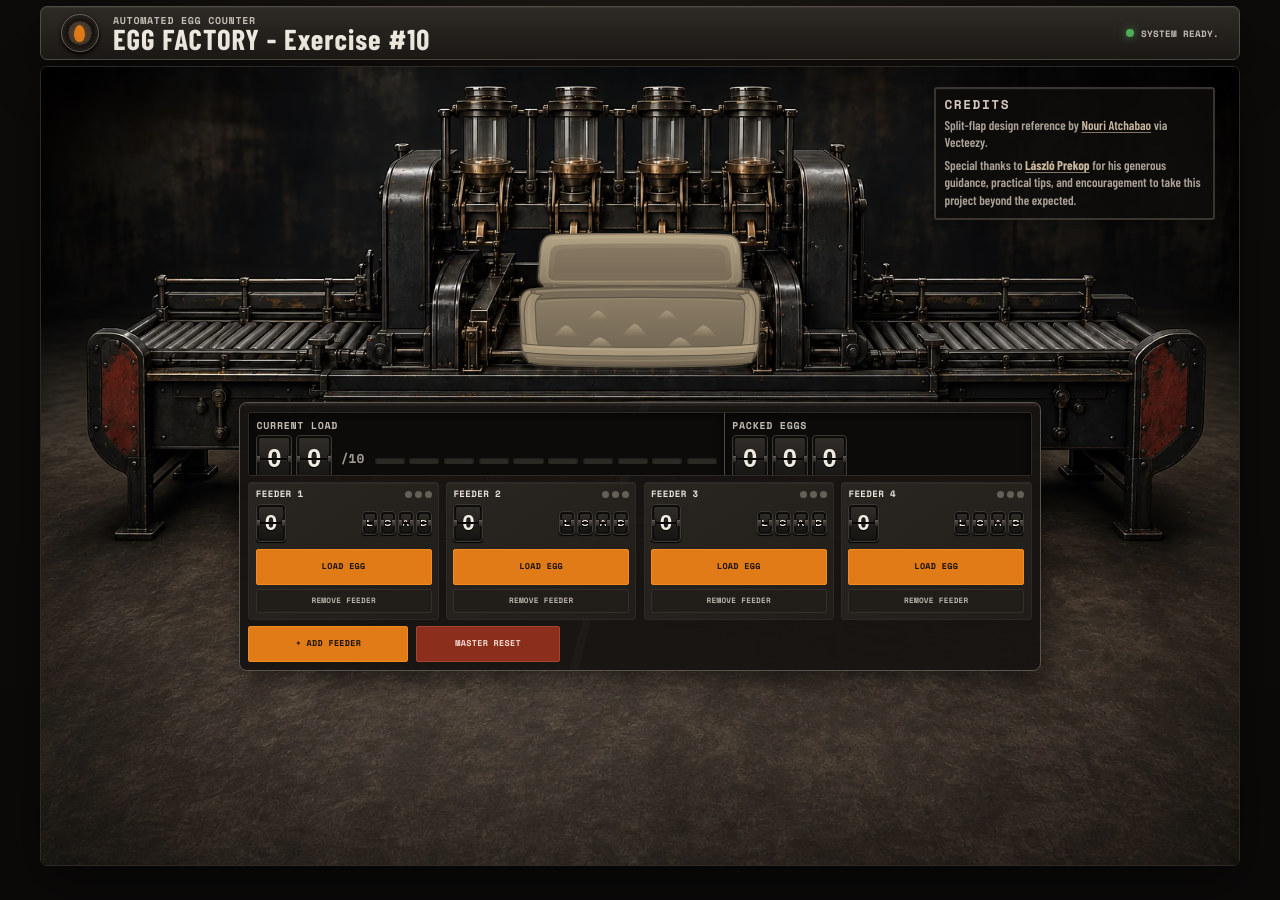
Scenario: Egg Factory › keeps the shell, total, collector, and add action in the empty state
This screenshot has width=1280, height=900.
Click the button with aria-label "Remove feeder 1" at (344, 601), box [256, 589, 432, 613]
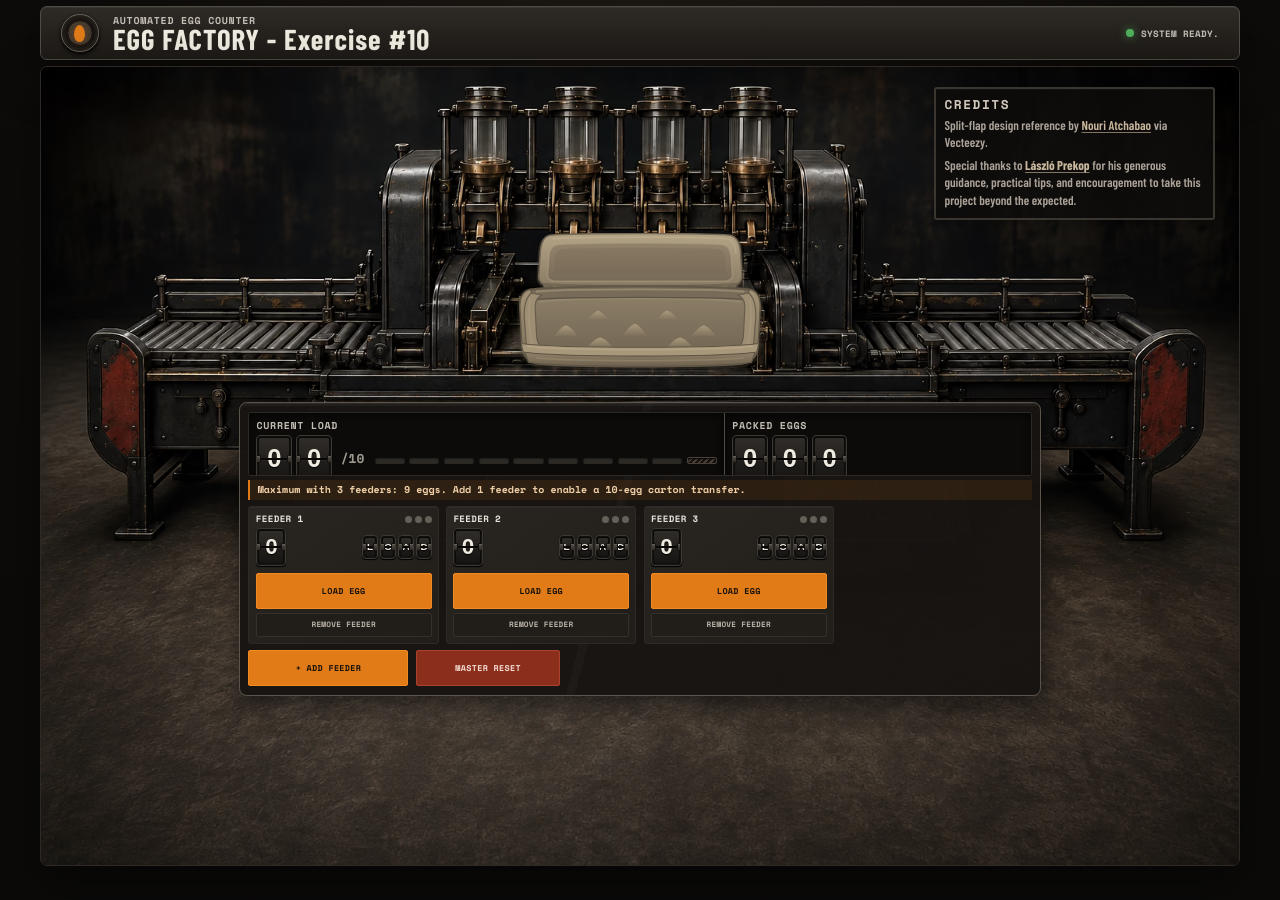
Click the button with aria-label "Remove feeder 1" at (344, 625), box [256, 613, 432, 637]
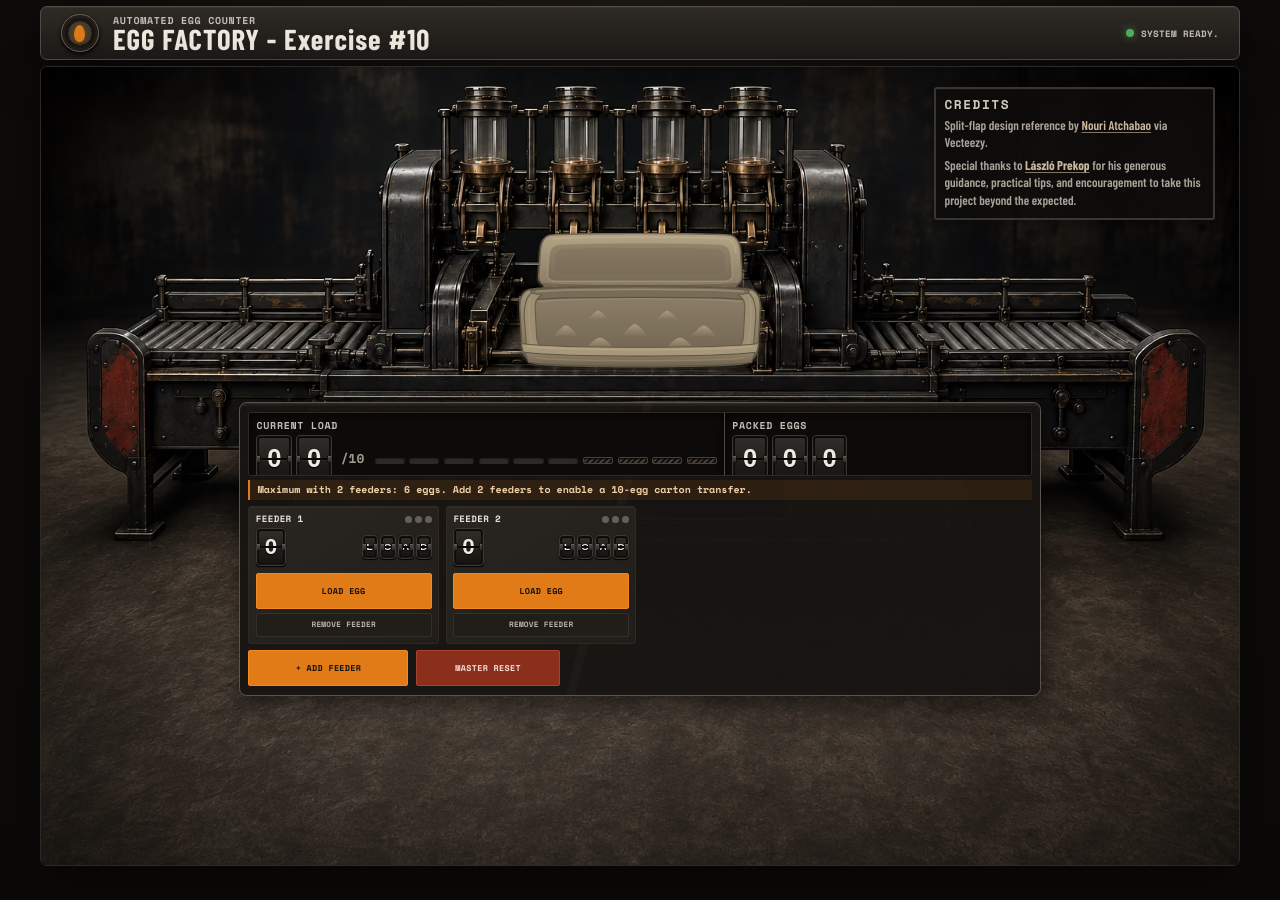
Click the button with aria-label "Remove feeder 1" at (344, 625), box [256, 613, 432, 637]
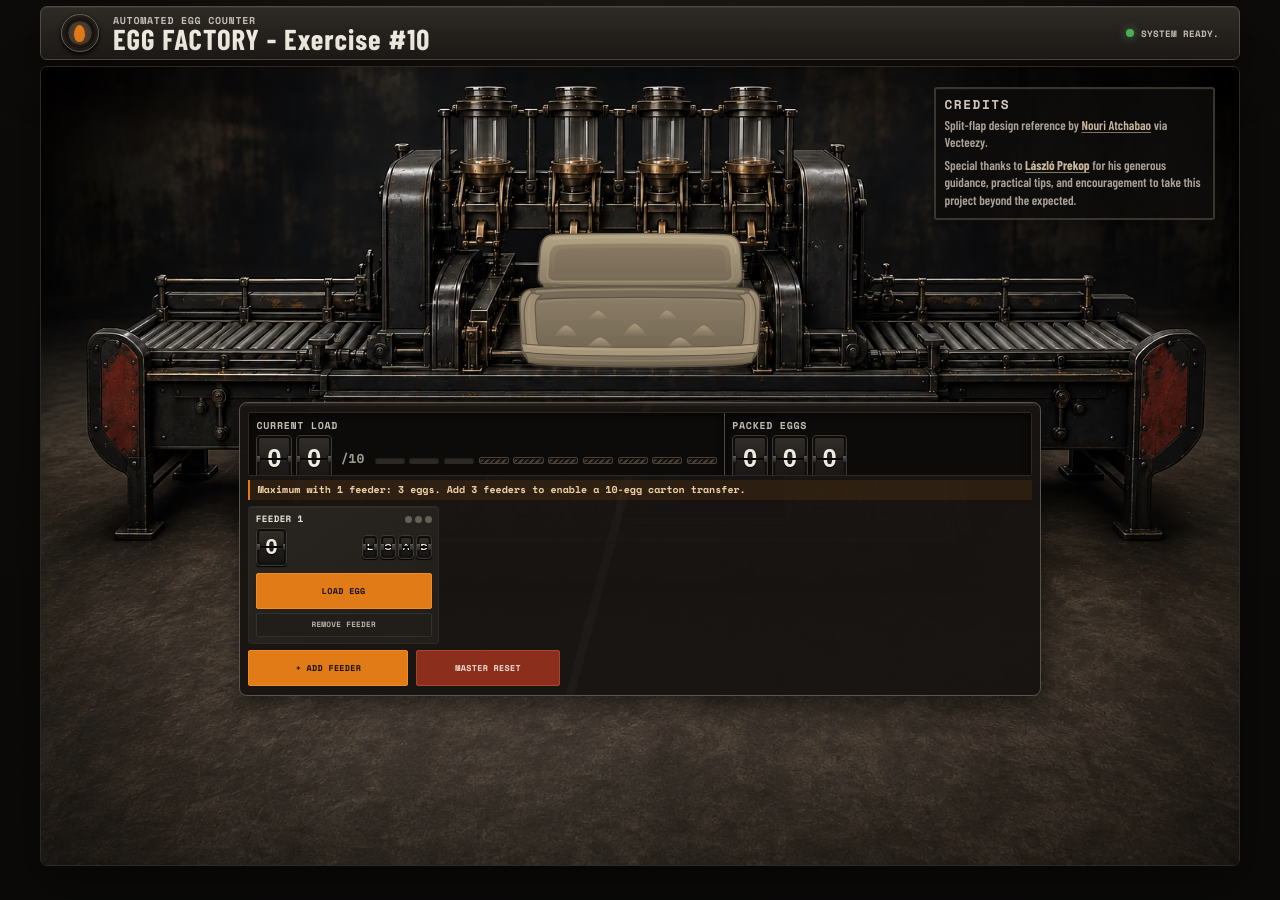
Click the button with aria-label "Remove feeder 1" at (344, 625), box [256, 613, 432, 637]
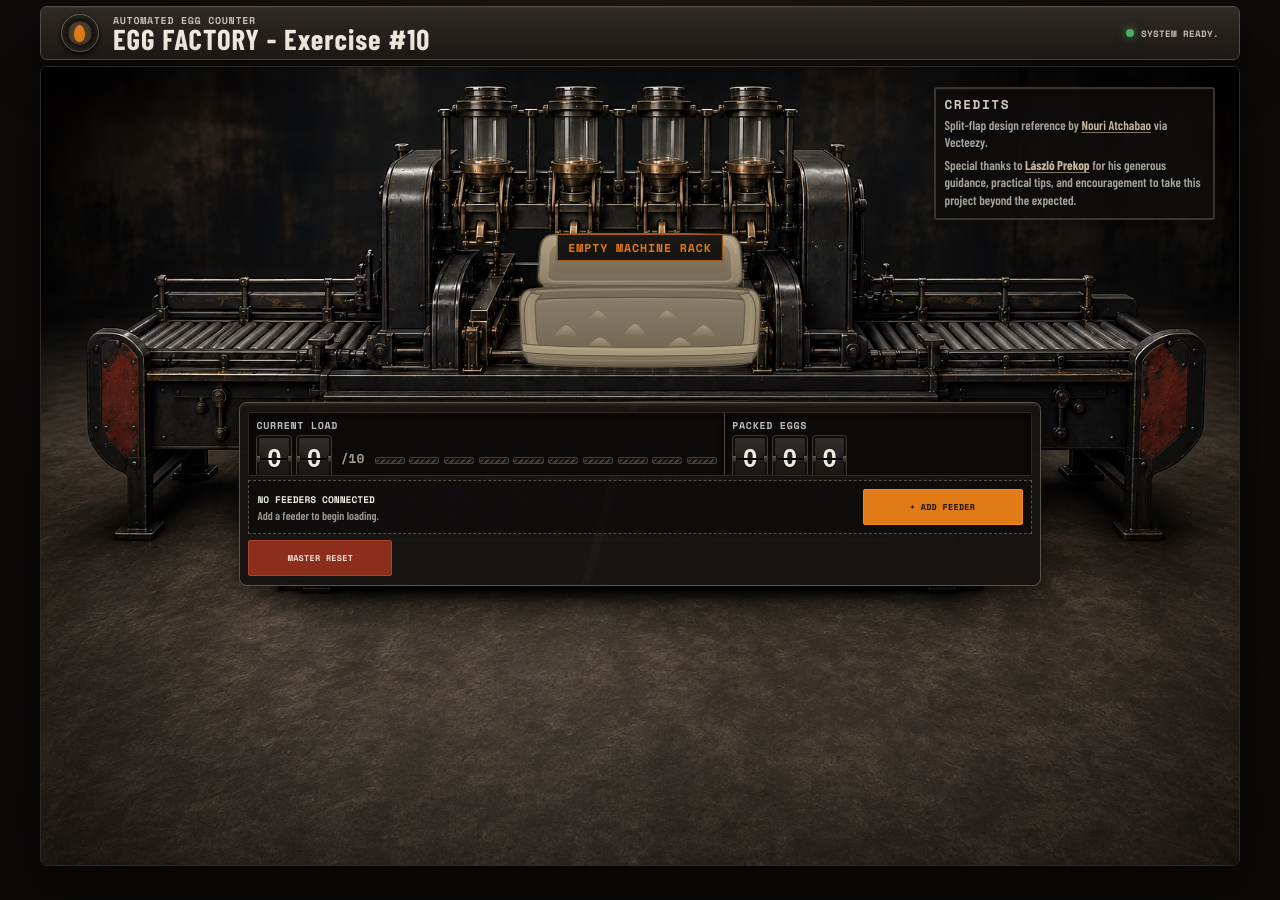
Expected: the element named "Current load" is shown, [256, 435, 332, 476]
Now the text "Machine rack is empty." is shown, box [556, 466, 724, 490]
Now the text "Maximum with" is gone
